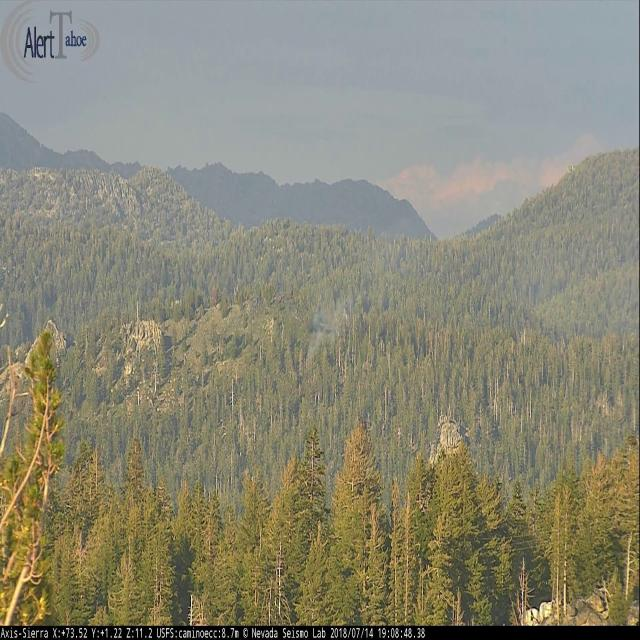smoke: (304, 208, 423, 362)
